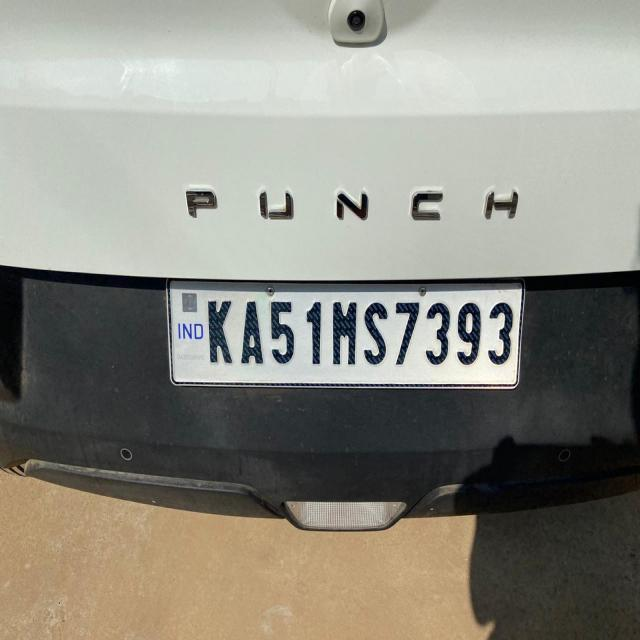1: (302, 294, 328, 372)
3: (422, 296, 452, 371), (488, 298, 517, 372)
5: (267, 298, 297, 378)
7: (393, 294, 422, 370)
9: (458, 298, 485, 378)
A: (239, 298, 269, 374)
K: (202, 298, 236, 372)
M: (330, 296, 360, 369)
S: (362, 298, 390, 370)
